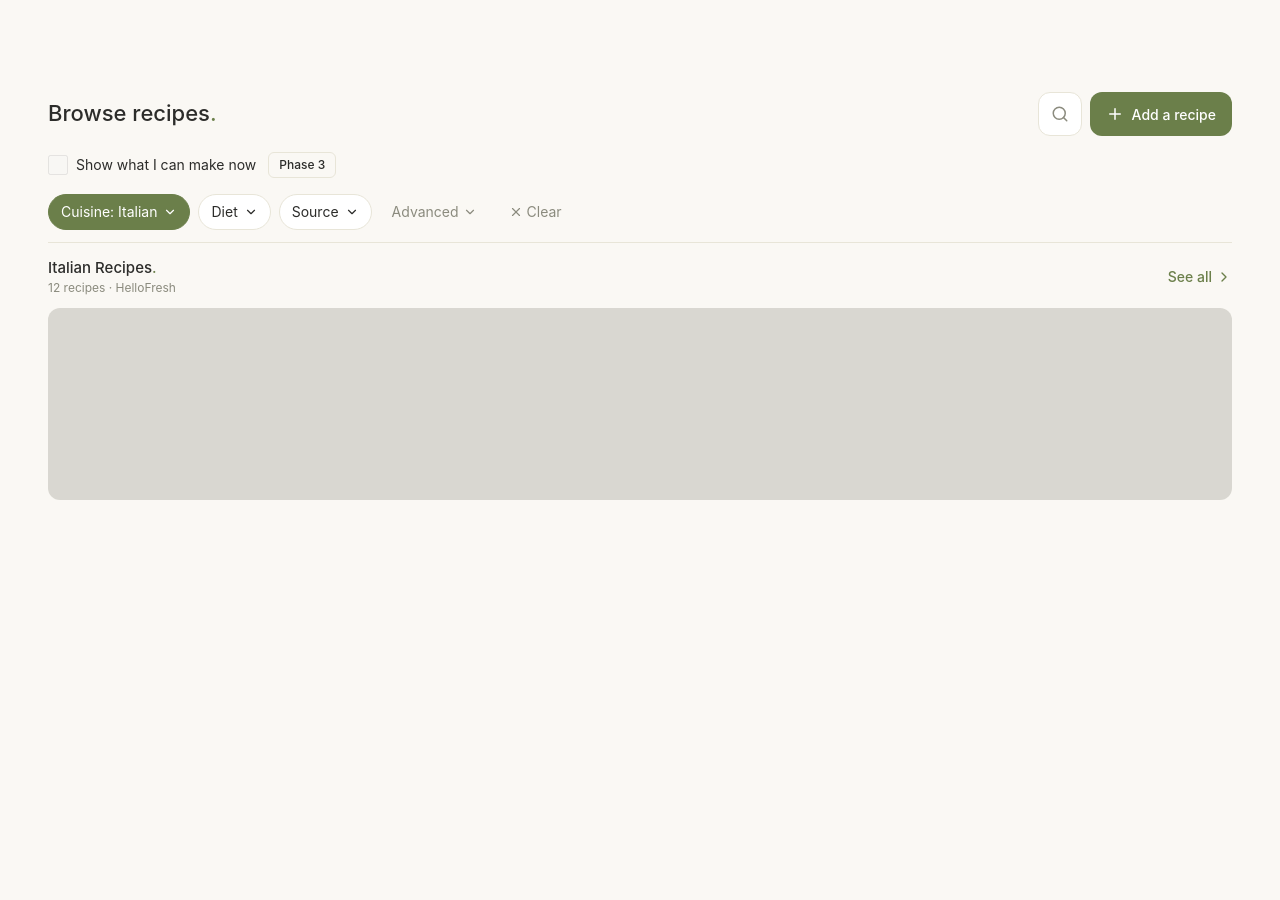
it: Recipes page — themes › theme filter › Clear returns to the main page
Expected: the element "Chicken Recipes" is not shown
What coordinates should you click on to do the following:
click the button "Clear"
I would click on:
 (535, 212)
Its box is [496,194,574,230].
(page scrolled)
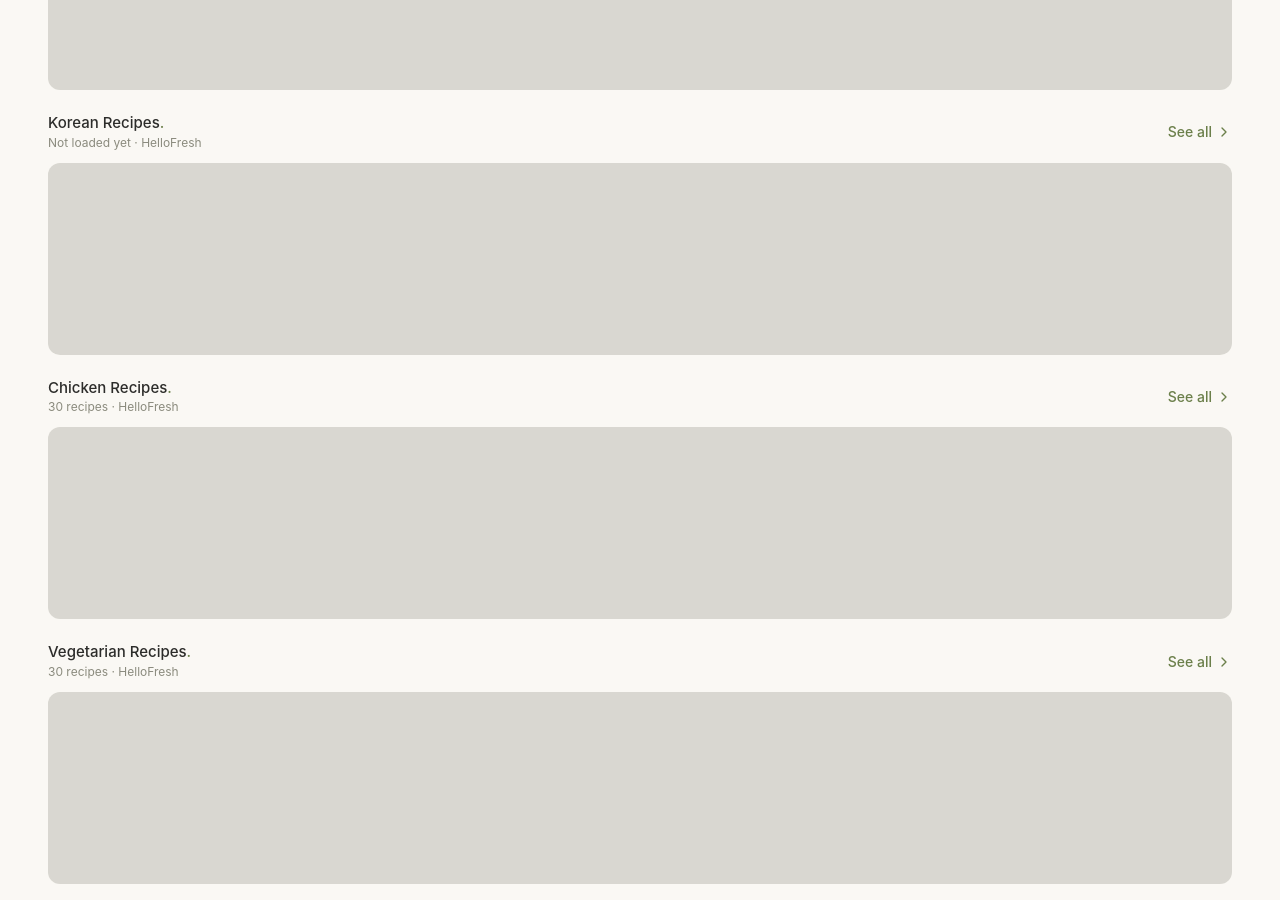
Now the button "Cuisine: Italian" is gone
Now the element "Chicken Recipes" is shown, box [48,378,1232,619]
